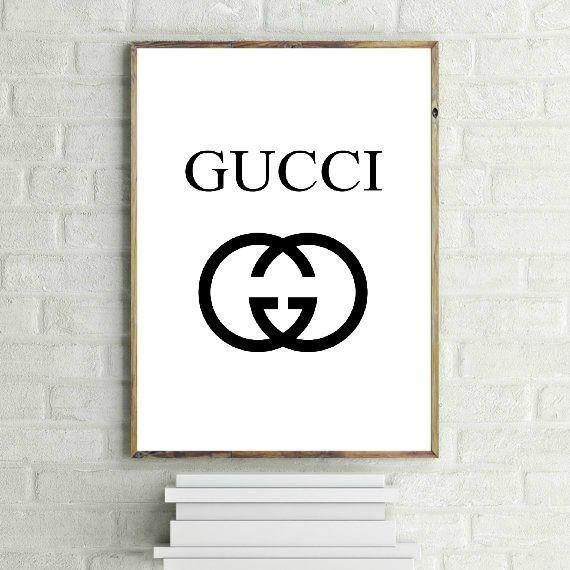GUCCI: (183, 149, 384, 193)
